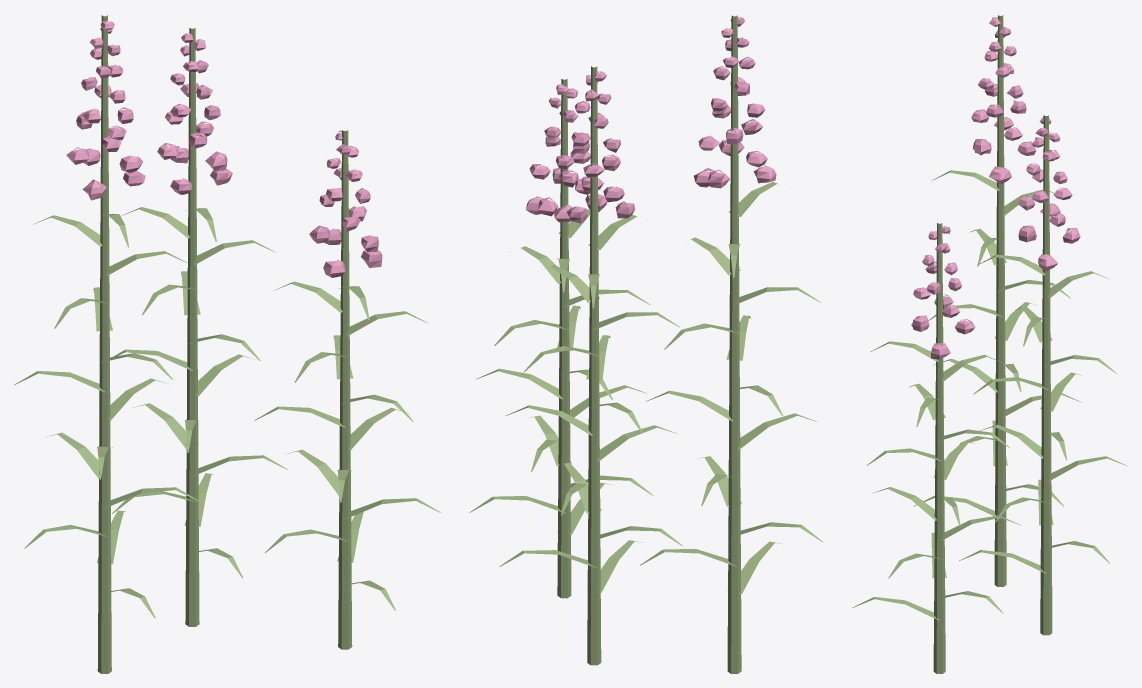
Rendered from temperate-forest-ecology-rosebay-willowherb-group-79db88cf__3857.glb.
The picture shows the model from 3 angles, left to right: view 1: azimuth 30°, elevation 25°; view 2: azimuth 150°, elevation 25°; view 3: azimuth 270°, elevation 25°; orthographic projection. The views are drawn at different scales.
Parts seen in each view (by area): view 1: rosebay-willowherb-group; view 2: rosebay-willowherb-group; view 3: rosebay-willowherb-group.
Part boxes in pixels (box(x1,y1,x2,y2)): rosebay-willowherb-group: box(14, 15, 440, 673); rosebay-willowherb-group: box(469, 15, 822, 673); rosebay-willowherb-group: box(852, 15, 1127, 673).
Bounding box in the file's own units: 0.9661 × 1.65 × 0.7234.
